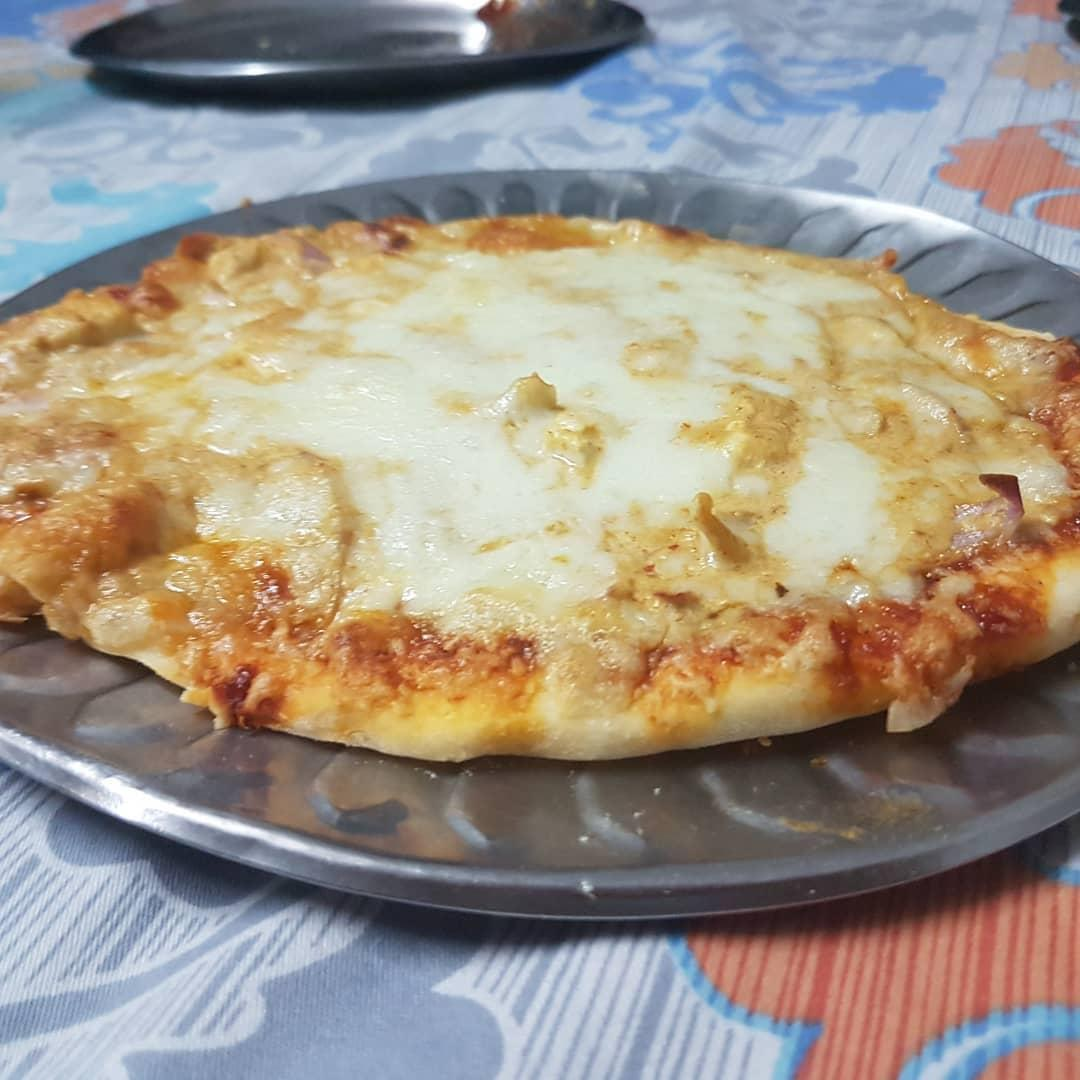Cheese: (373, 389, 705, 549), (375, 246, 698, 380), (705, 277, 882, 514), (201, 309, 368, 509)
Pizza: (7, 213, 1080, 761)
